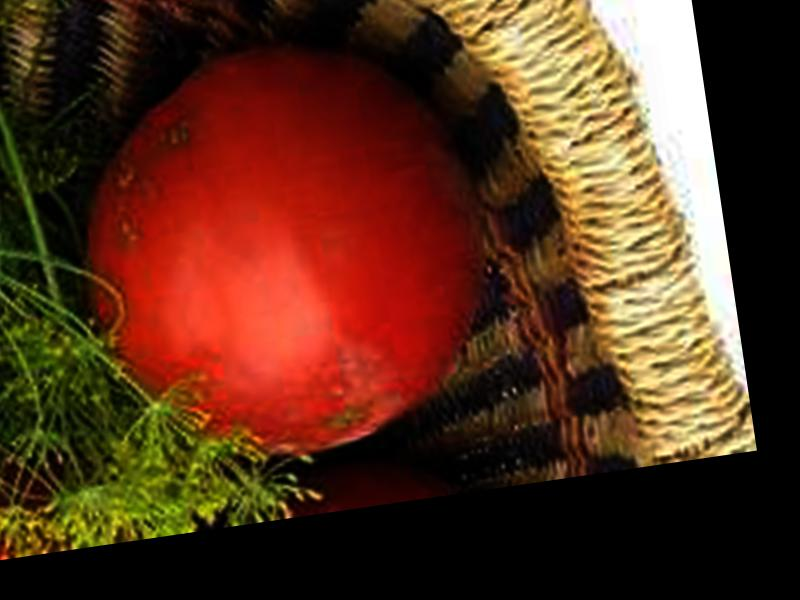Tomato: (54, 23, 509, 483)
